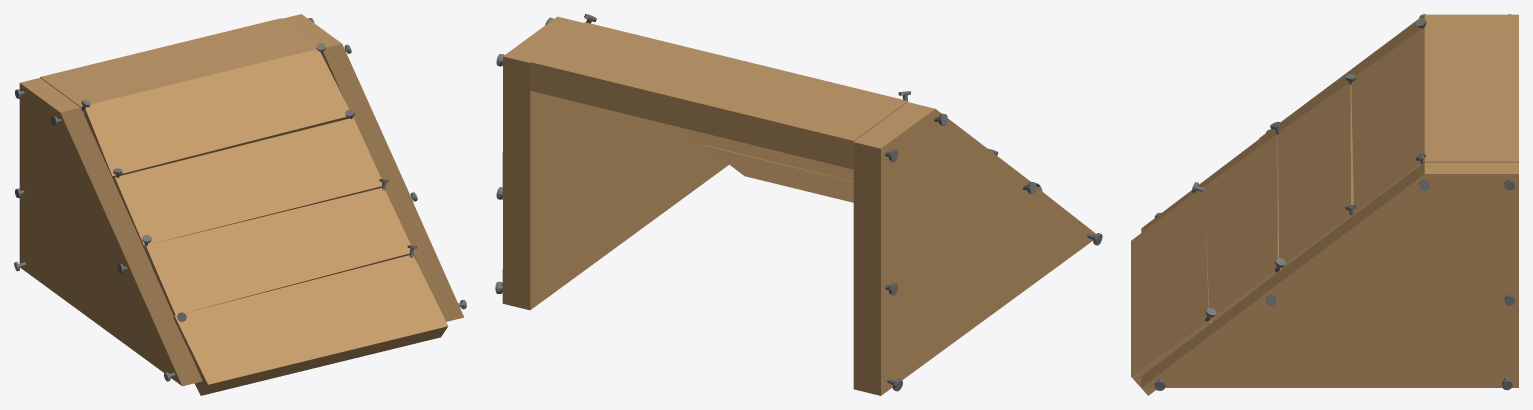
The model's file is SM_Ramp_planks.fbx.
The picture shows the model from 3 angles, left to right: view 1: azimuth 30°, elevation 25°; view 2: azimuth 150°, elevation 25°; view 3: azimuth 270°, elevation 25°; orthographic projection. The views are drawn at different scales.
Parts seen in each view (by area): view 1: Ramp_planks; view 2: Ramp_planks; view 3: Ramp_planks.
Part boxes in pixels (x1,y1,x2,y2): Ramp_planks: (14, 14, 466, 395); Ramp_planks: (495, 14, 1102, 395); Ramp_planks: (1131, 14, 1518, 395).
Size of the model in its own units: 427 by 283 by 411.
